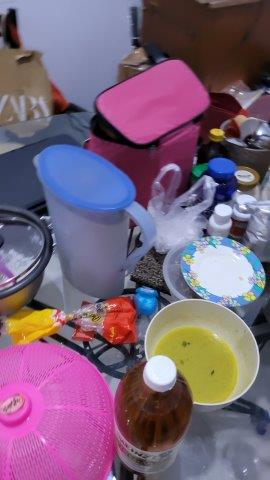plastik: (146, 168, 212, 249)
